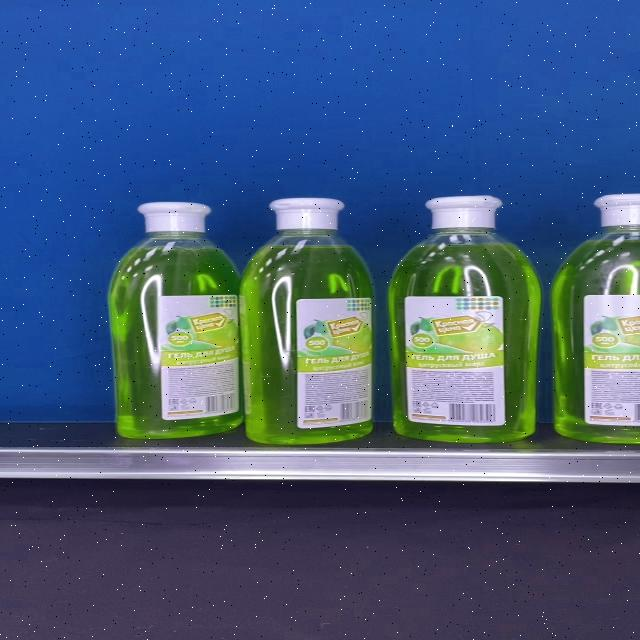Bottle: (387, 196, 542, 443), (239, 198, 373, 443), (109, 201, 243, 439)
Cap: (424, 196, 502, 230), (268, 198, 345, 230), (138, 202, 212, 232)
